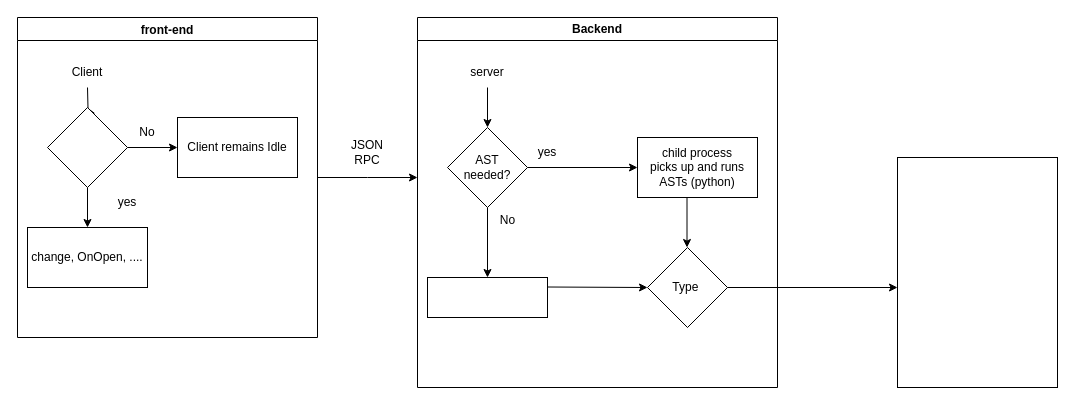
Some shapes in this 1075 by 405 pixel diagram are drawn without their labels. Each missing label, with the centre of its shape:
"Activation Events" belongs at point 87,147.
"typescript validators" belongs at point 487,297.
"User Understandig Diagnostics Hover AutoComplete" belongs at point 977,272.
